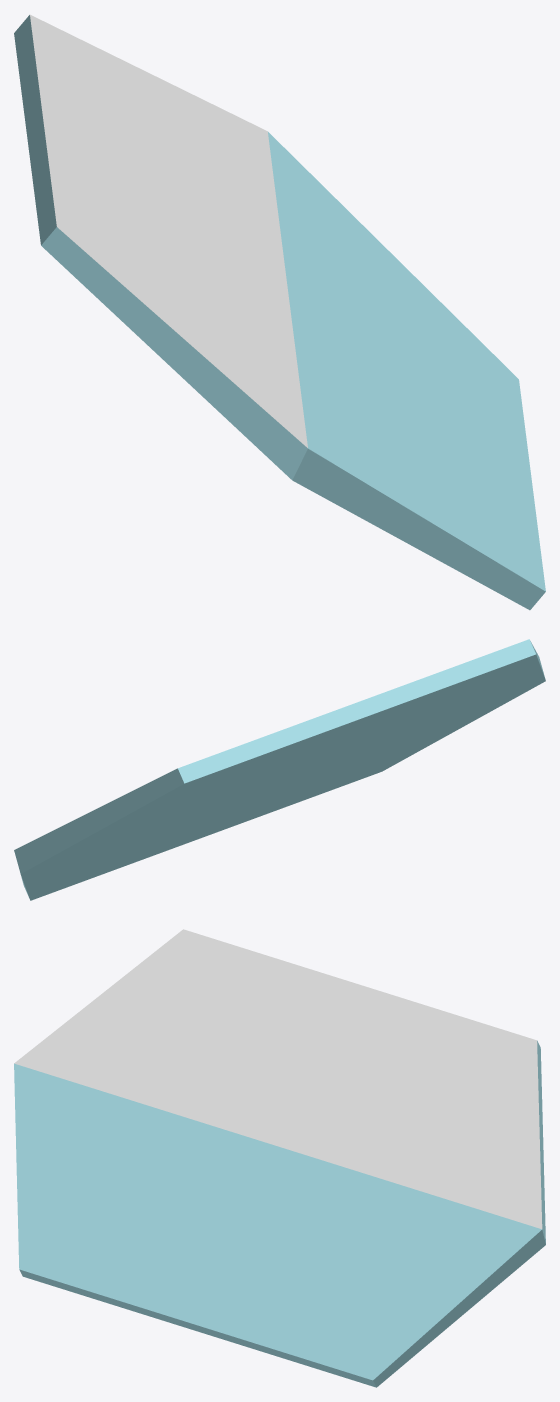
Rendered from Wings_1.obj.
3 renders of one model, top to bottom at view 1: azimuth 30°, elevation 25°; view 2: azimuth 150°, elevation 25°; view 3: azimuth 270°, elevation 25°, orthographic. The views are drawn at different scales.
Visible parts, largest first — view 1: Wings_1; view 2: Wings_1; view 3: Wings_1.
Boxes of the visible parts, x1,y1,x2,y2 form: Wings_1: (14,14,545,610); Wings_1: (14,639,545,900); Wings_1: (14,929,545,1387).
Size of the model in its own units: 3.12 by 2.05 by 3.62.
